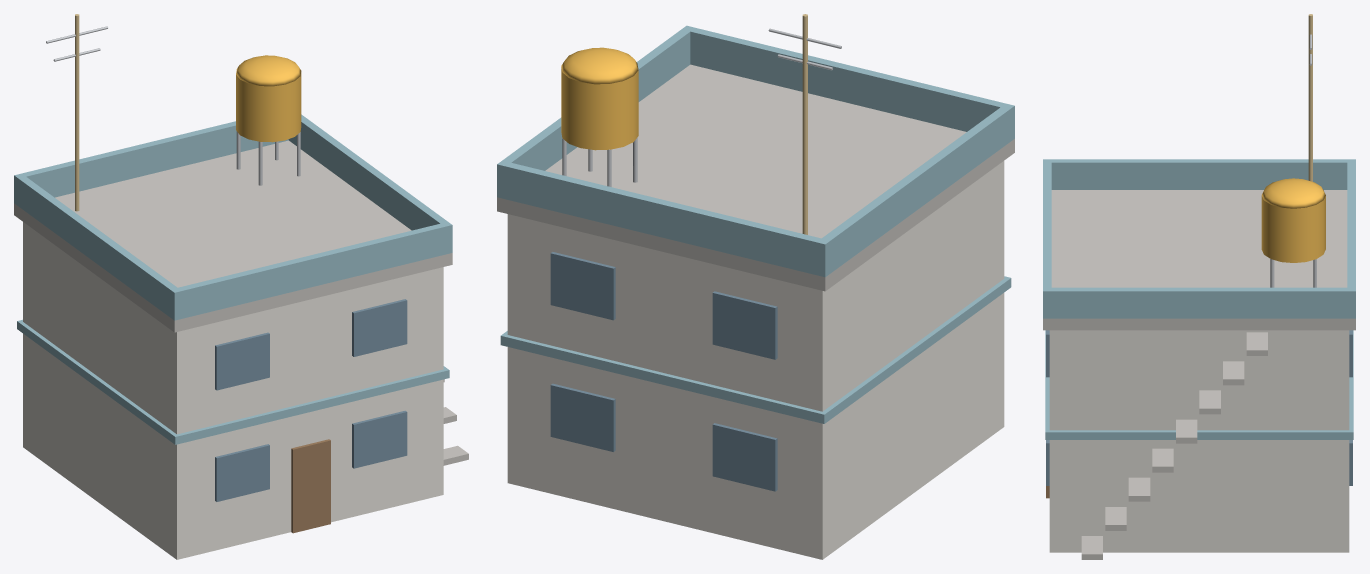
The model's file is rooftop_base.glb.
3 views of the same model, side by side, from view 1: azimuth 30°, elevation 25°; view 2: azimuth 150°, elevation 25°; view 3: azimuth 270°, elevation 25° (orthographic). The views are drawn at different scales.
Parts seen in each view (by area): view 1: RooftopBase; view 2: RooftopBase; view 3: RooftopBase.
Boxes of the visible parts, x1,y1,x2,y2 form: RooftopBase: (14,14,468,559); RooftopBase: (497,14,1014,559); RooftopBase: (1043,14,1355,559).
Bounding box in the file's own units: 8.25 × 11 × 7.3.
